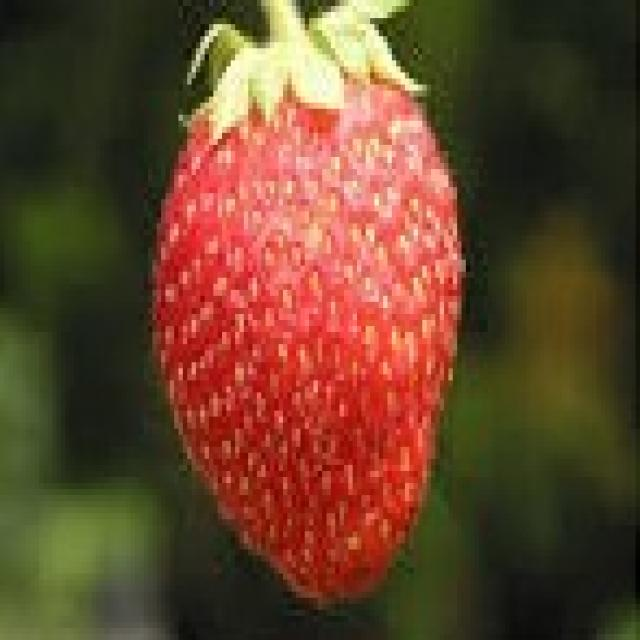strawberry: (116, 16, 480, 617)
